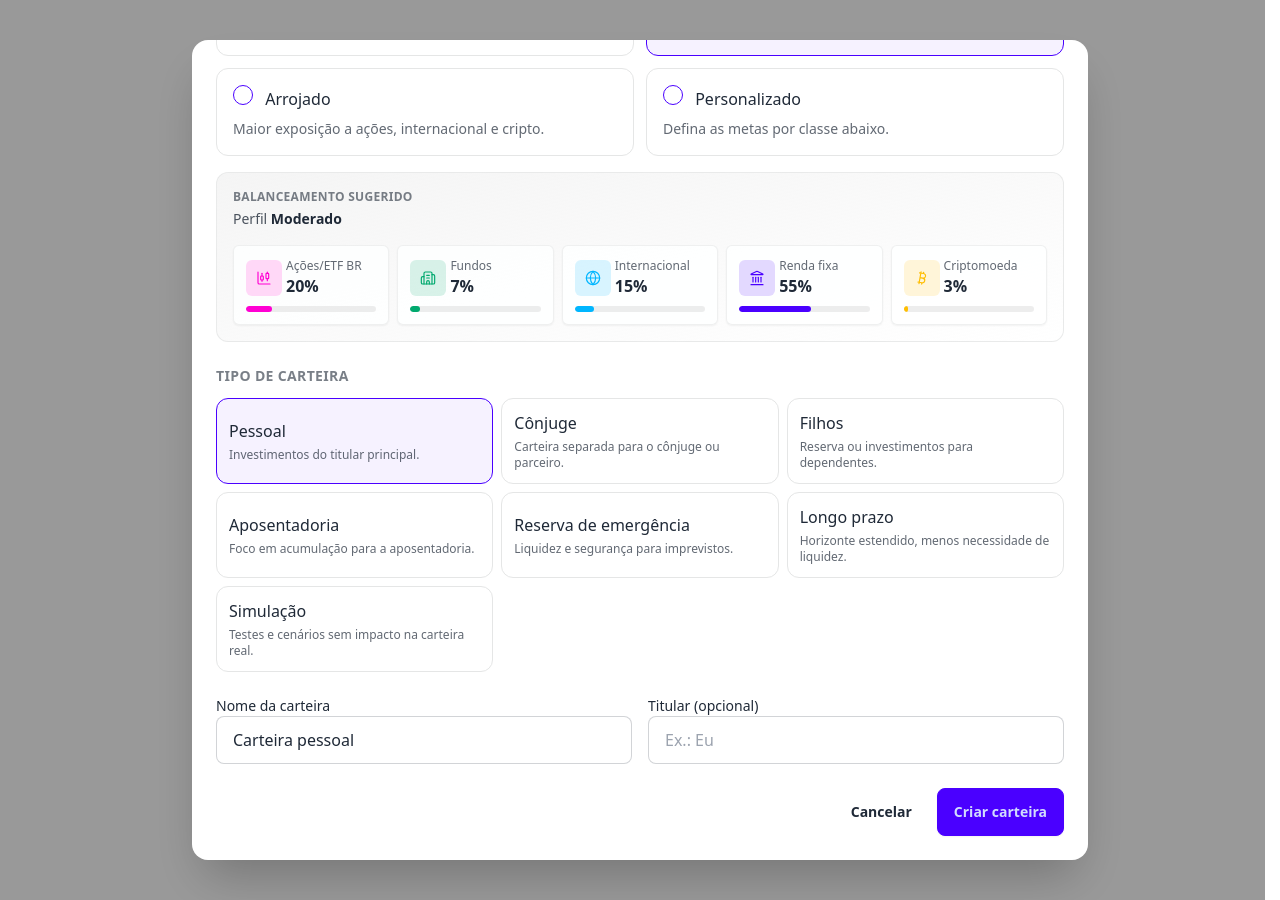
Scenario: CreatePortfolioModal › exige nome antes de criar
This screenshot has width=1280, height=900.
(page scrolled)
Clear the field labelled "Nome da carteira" at point(424, 740), box [216, 716, 632, 764]
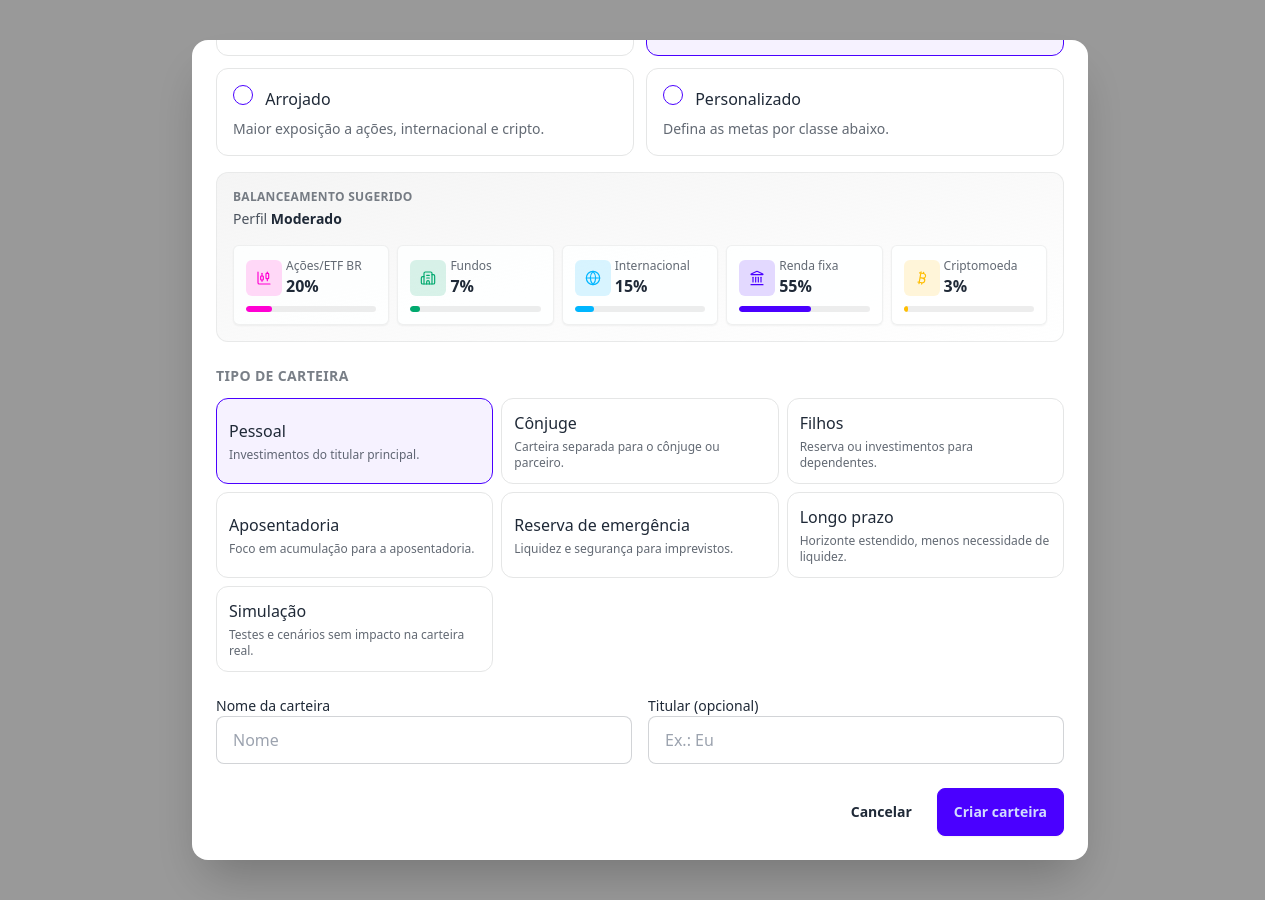
Click the button "Criar carteira" at point(1000, 812), box [937, 788, 1064, 836]
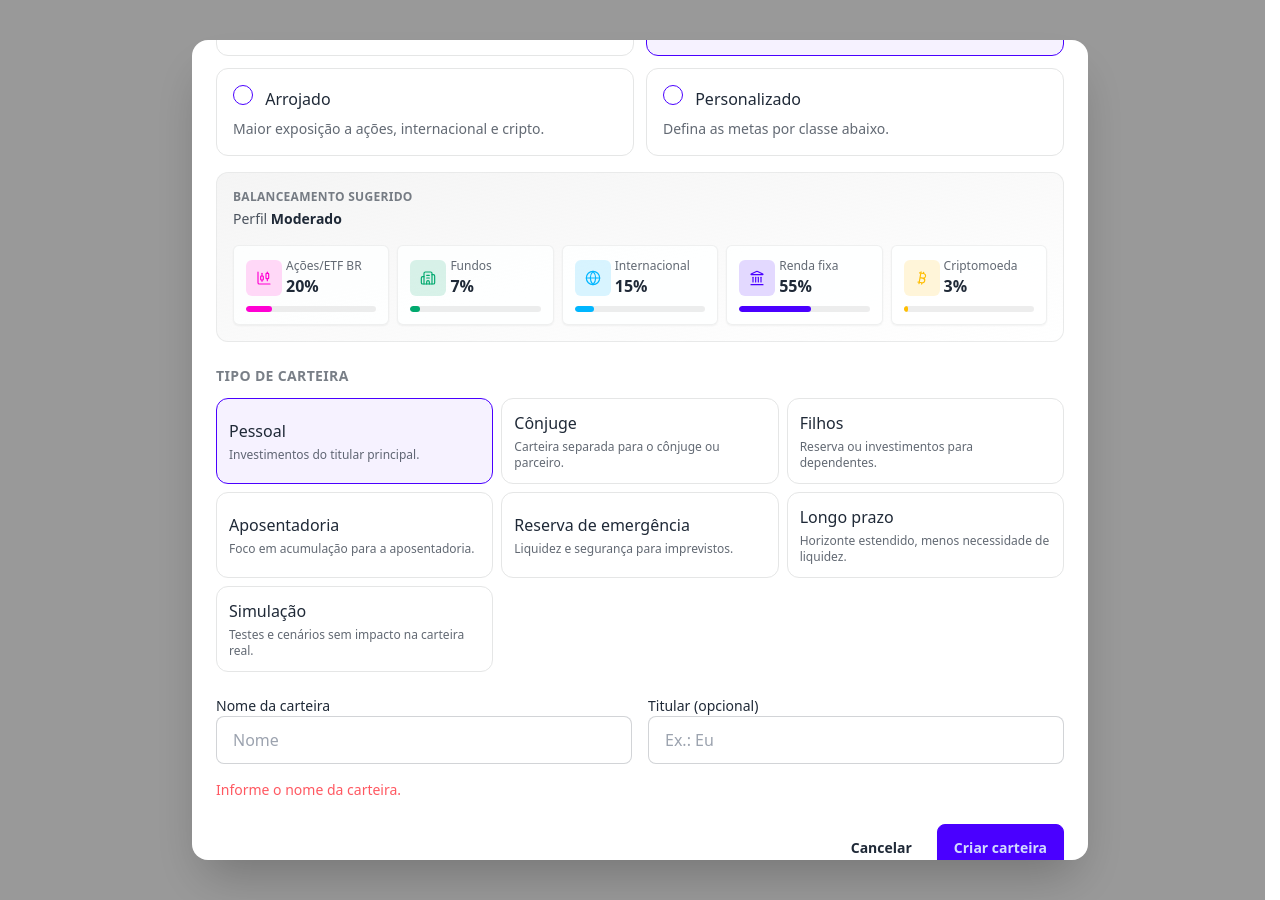
Expected: the message reads "Informe o nome da carteira.", [216, 780, 401, 799]
